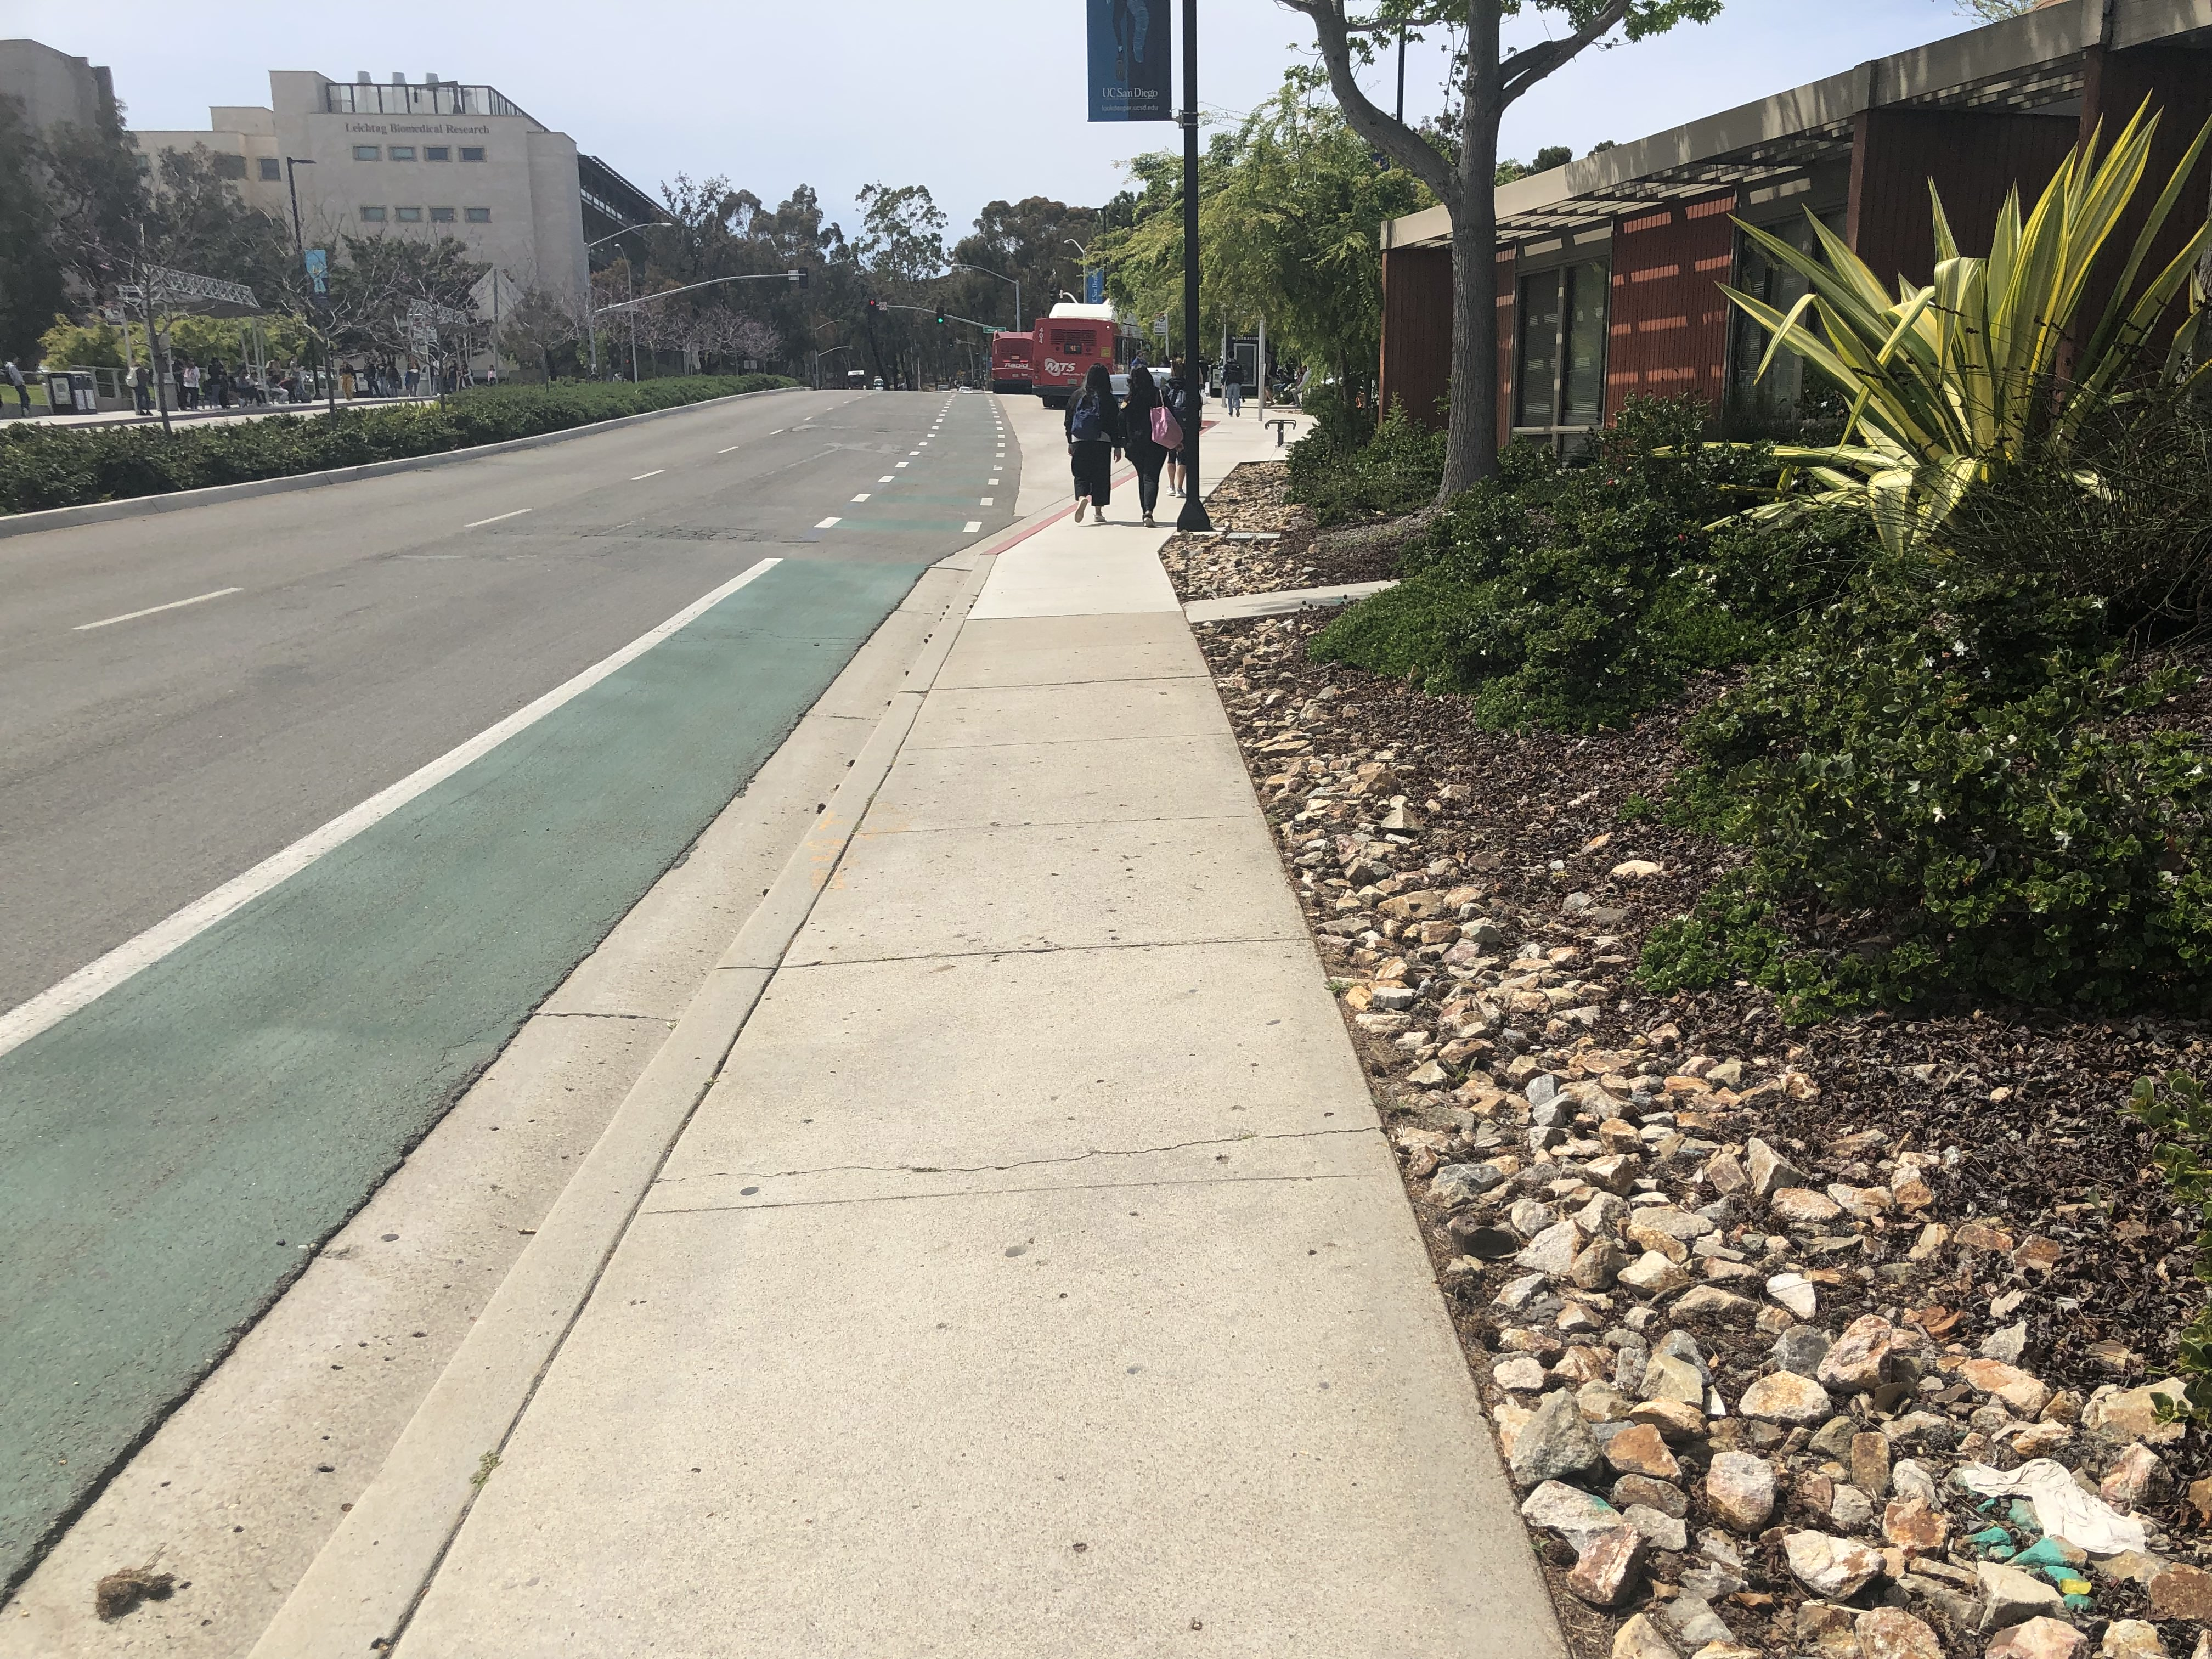Edge: (256, 549, 1005, 1645), (1162, 538, 1580, 1645)
Obstacle: (1322, 12, 1547, 558), (1158, 19, 1216, 523), (1047, 369, 1207, 526)
